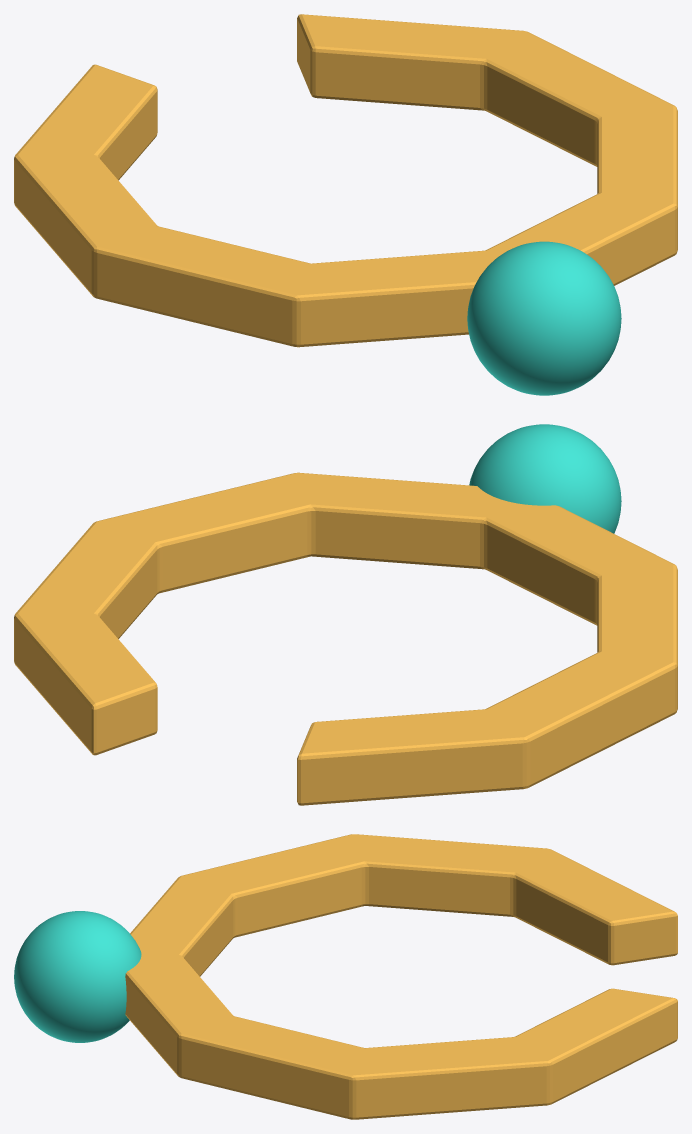
3 renders of one model, top to bottom at view 1: azimuth 30°, elevation 25°; view 2: azimuth 150°, elevation 25°; view 3: azimuth 270°, elevation 25°, orthographic. The views are drawn at different scales.
Parts seen in each view (by area): view 1: hoop, bead; view 2: hoop, bead; view 3: hoop, bead.
Boxes of the visible parts, x1,y1,x2,y2 form: hoop: [14, 14, 677, 347]; bead: [467, 241, 621, 395]; hoop: [14, 472, 677, 805]; bead: [469, 424, 621, 533]; hoop: [125, 834, 677, 1119]; bead: [14, 911, 141, 1042].
Bounding box in the file's own units: 0.0236 × 0.0054 × 0.0271.
